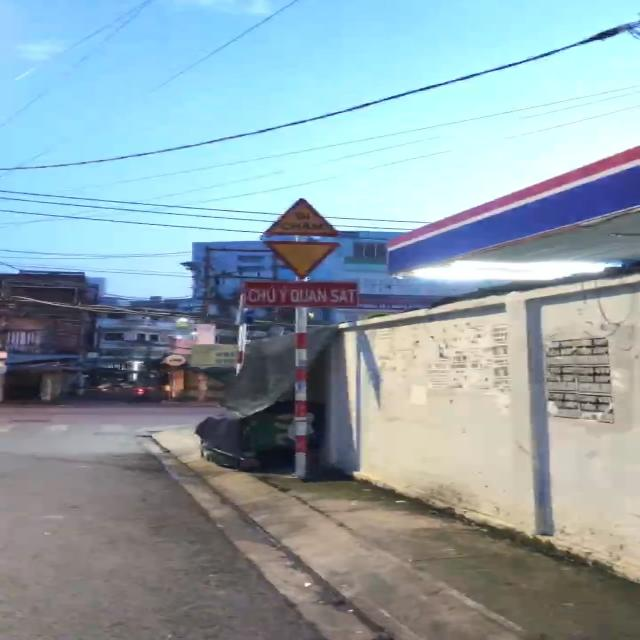Bien bao di cham: (254, 190, 347, 238)
Bien bao giao nhau voi duong uu tien: (255, 237, 352, 278)
